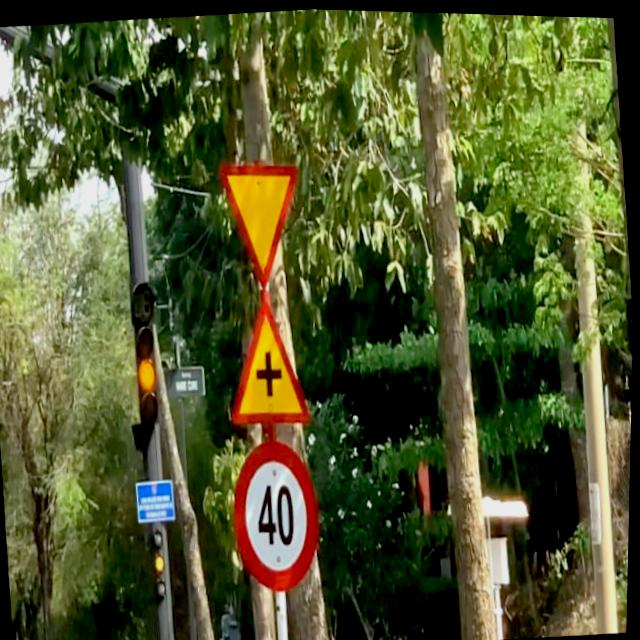Giao nhau voi duong uu tien: (215, 153, 311, 294)
Toc do toi da cho phep: (228, 434, 330, 595)
